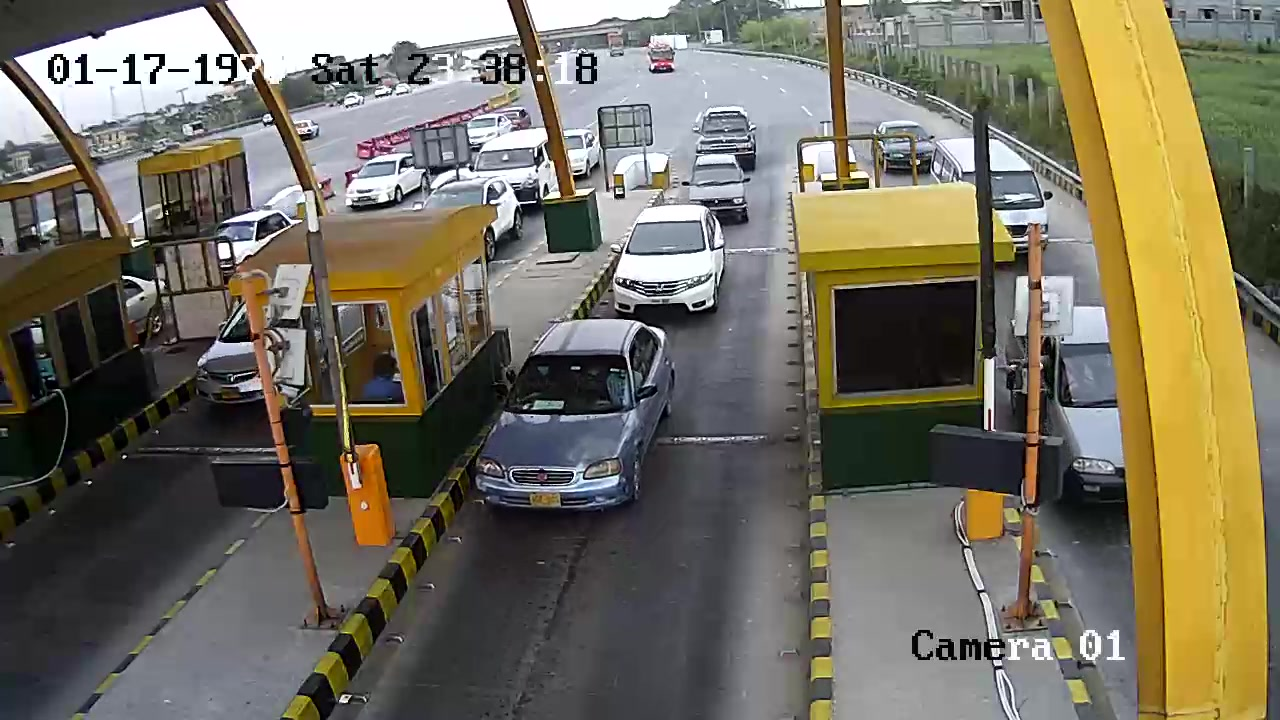F1: (461, 313, 707, 526)
